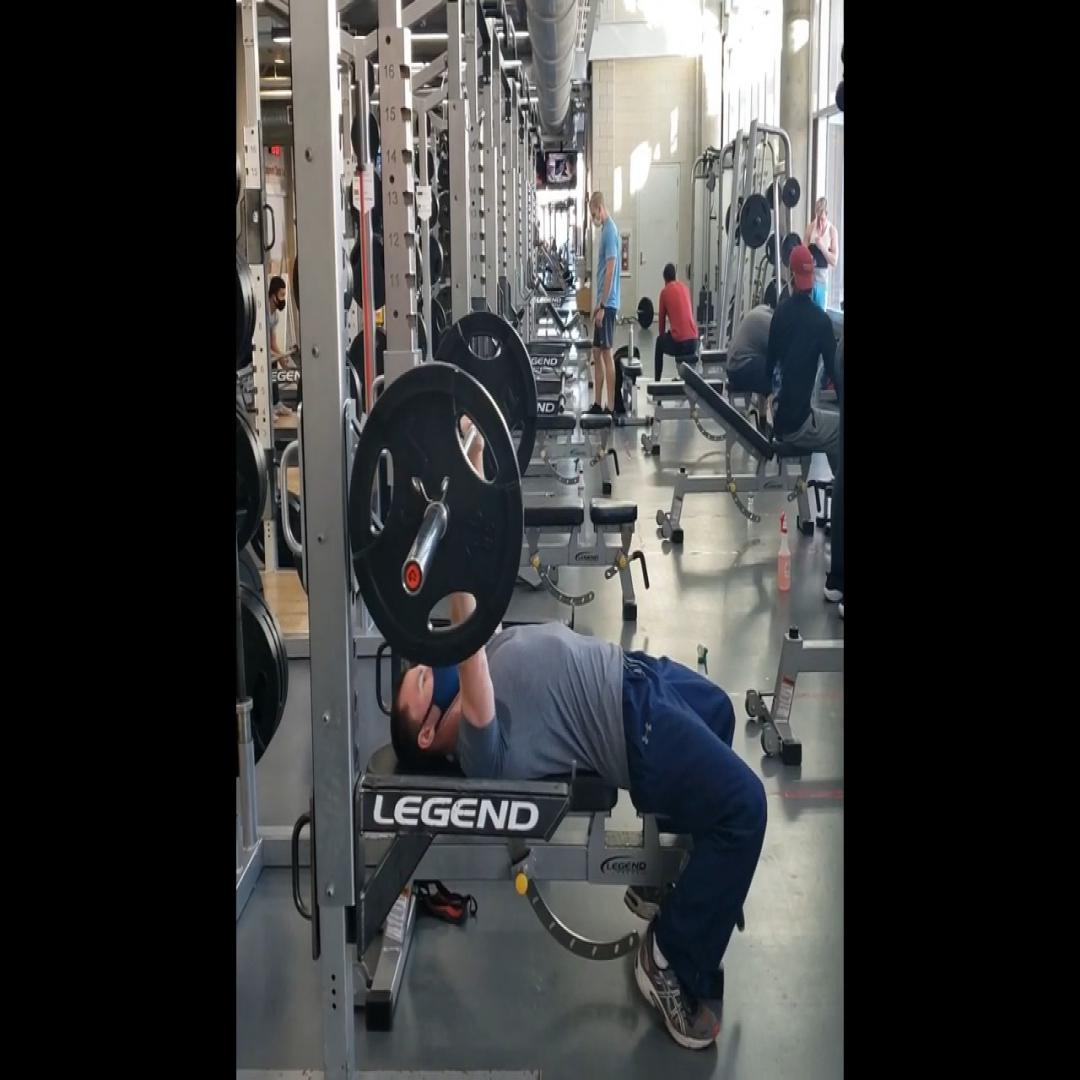Bar: (400, 555, 425, 599)
Barbell: (348, 363, 523, 669)
